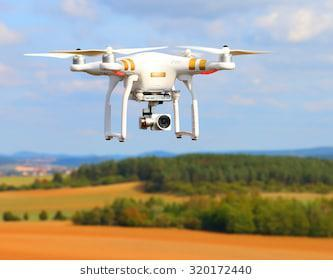drone: (22, 24, 286, 154)
